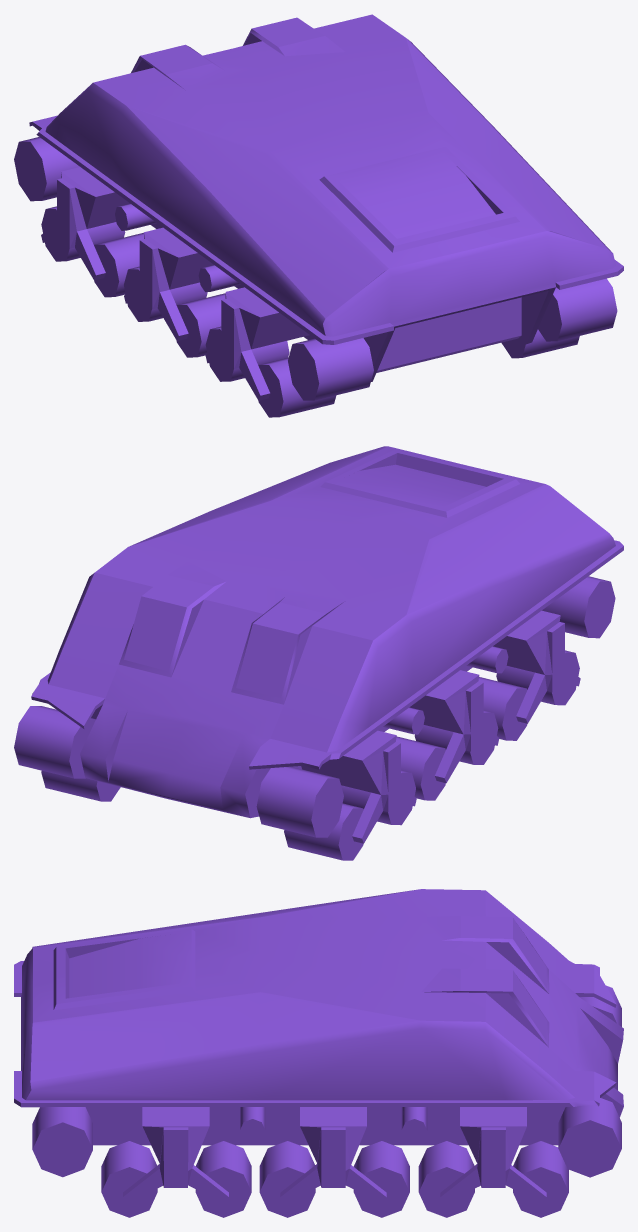
Rendered from sherman_hull_ao.obj.
The picture shows the model from 3 angles, top to bottom: view 1: azimuth 30°, elevation 25°; view 2: azimuth 150°, elevation 25°; view 3: azimuth 270°, elevation 25°; orthographic projection. The views are drawn at different scales.
Visible parts, largest first — view 1: body; view 2: body; view 3: body.
Part boxes in pixels (x1=…): body: x1=14, y1=14, x2=623, y2=417; body: x1=14, y1=446, x2=623, y2=860; body: x1=14, y1=889, x2=623, y2=1217.
Bounding box in the file's own units: 3.35 × 1.93 × 5.5.
